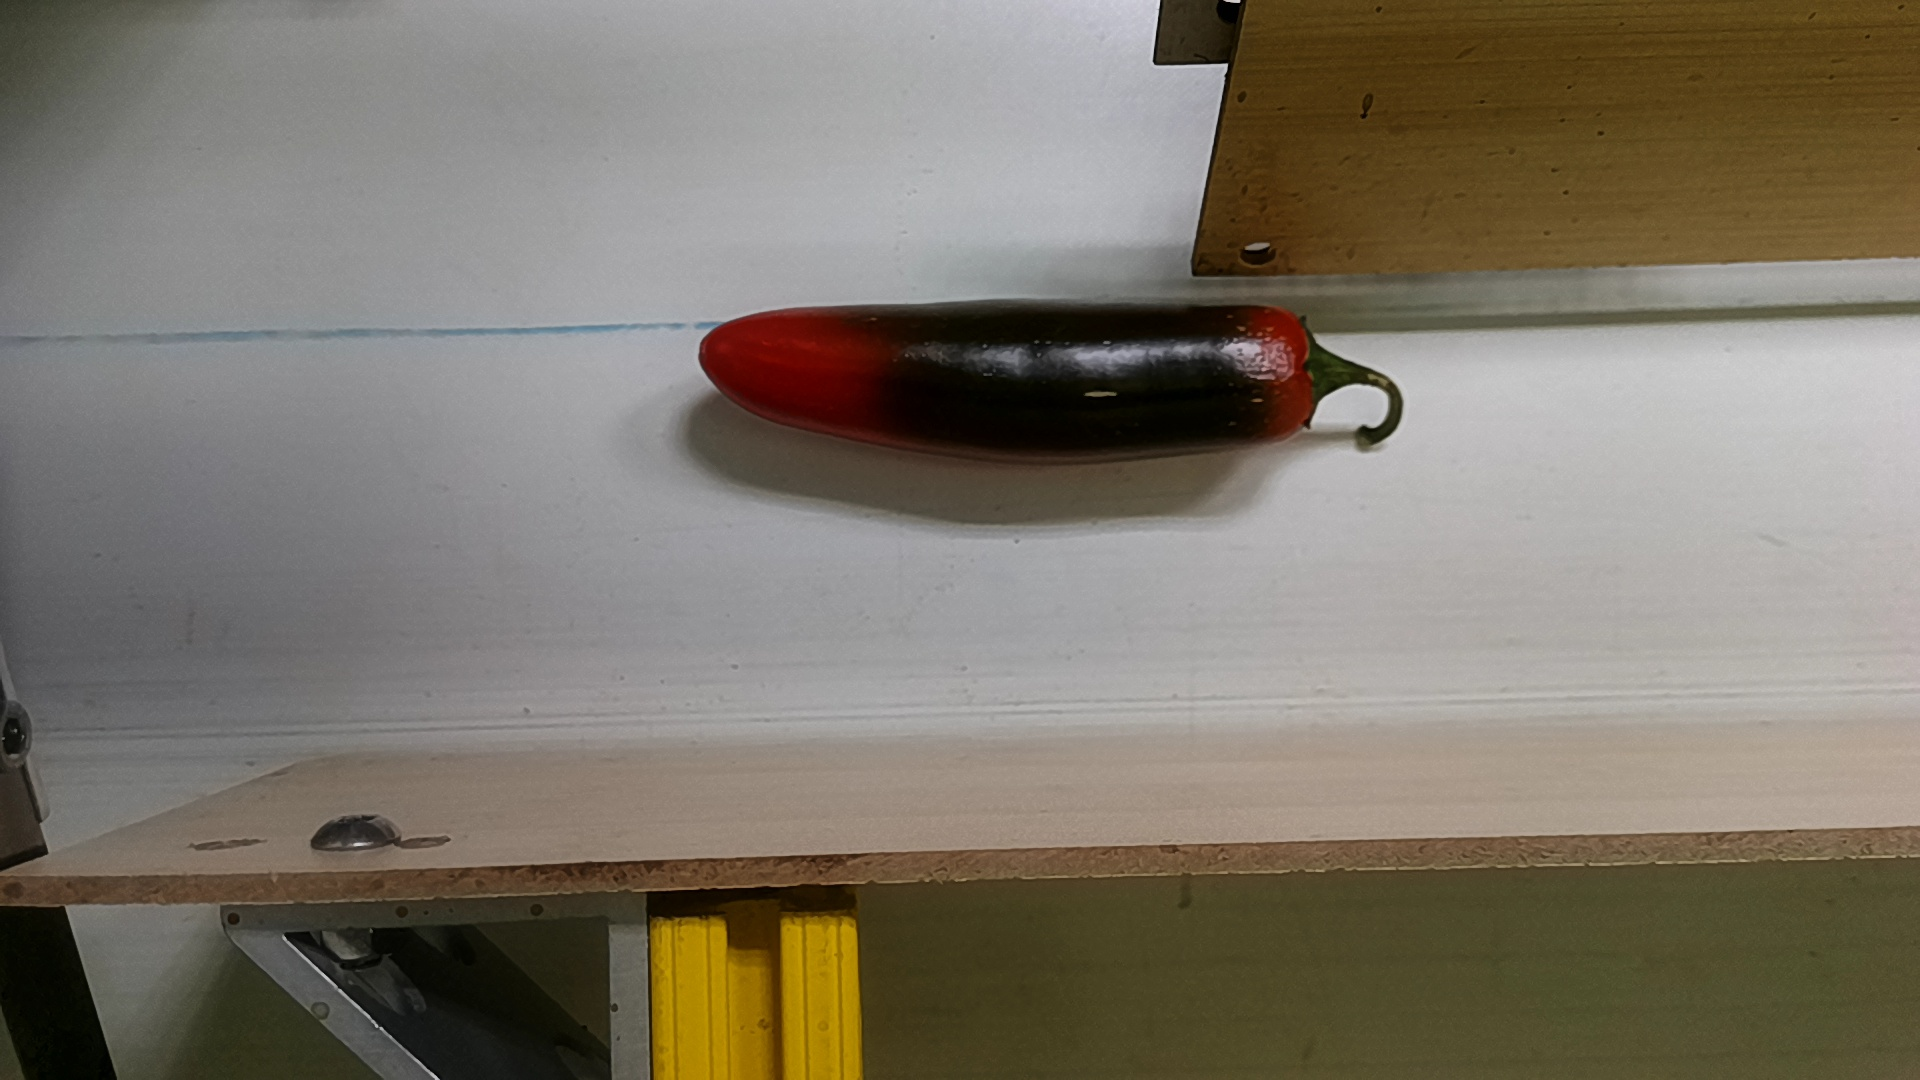Cut Point: (1250, 299, 1350, 448)
